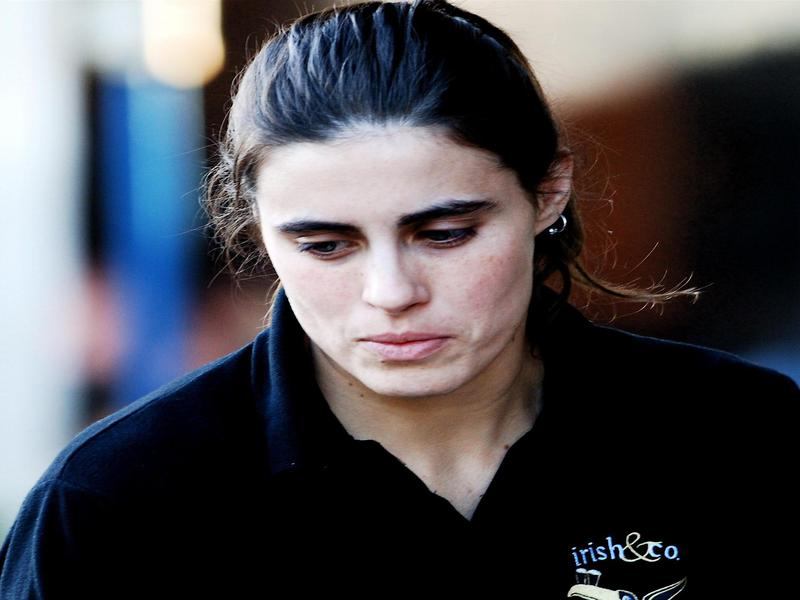person: (11, 14, 800, 599)
